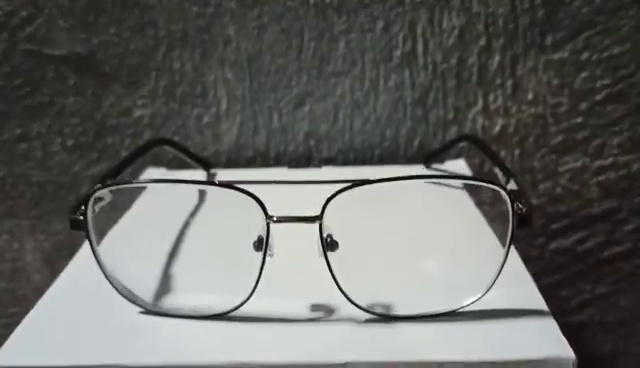glasses: (71, 138, 525, 321)
